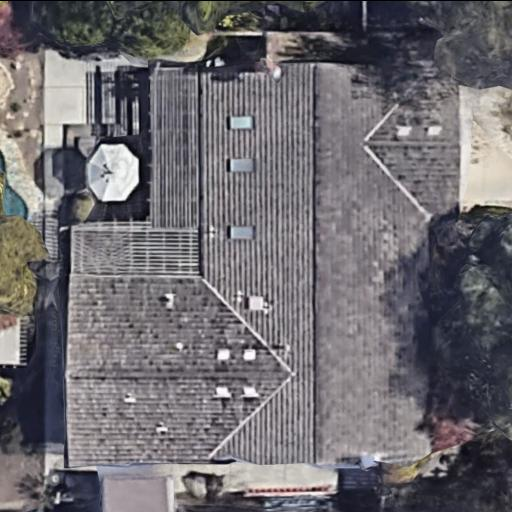Slope-Roof: (68, 54, 464, 466)
